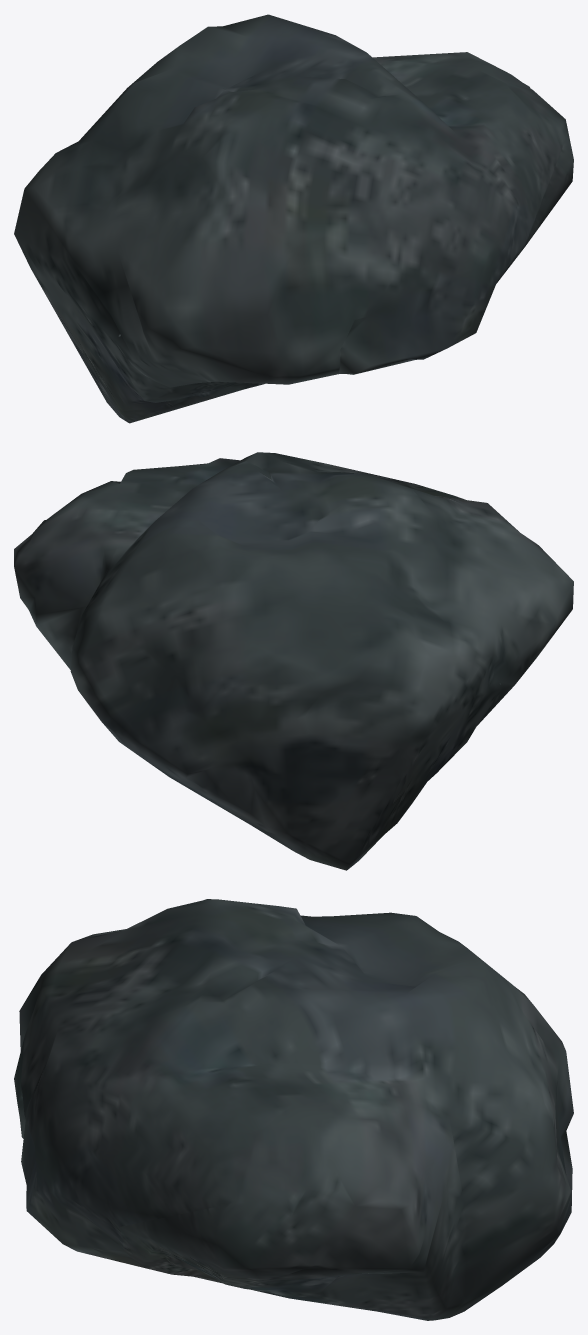
The picture shows the model from 3 angles, top to bottom: view 1: azimuth 30°, elevation 25°; view 2: azimuth 150°, elevation 25°; view 3: azimuth 270°, elevation 25°; orthographic projection. The views are drawn at different scales.
Visible parts, largest first — view 1: SM_US_VolcRock_02_v2_LOD0; view 2: SM_US_VolcRock_02_v2_LOD0; view 3: SM_US_VolcRock_02_v2_LOD0.
Boxes of the visible parts, x1=… form: SM_US_VolcRock_02_v2_LOD0: x1=14, y1=14, x2=573, y2=423; SM_US_VolcRock_02_v2_LOD0: x1=14, y1=452, x2=573, y2=870; SM_US_VolcRock_02_v2_LOD0: x1=14, y1=899, x2=573, y2=1320.
Bounding box in the file's own units: 4.27 × 3.04 × 3.68.
1 material, 1 textured.
